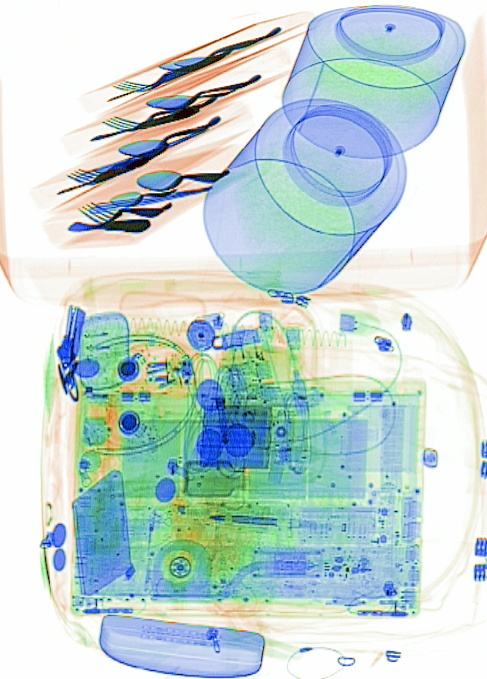powerbank: (184, 398, 271, 468)
